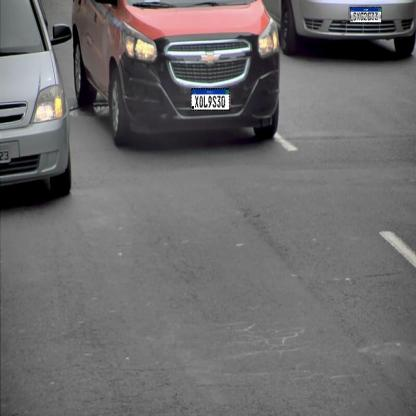PlacaM: (191, 88, 230, 111), (350, 7, 382, 23)
